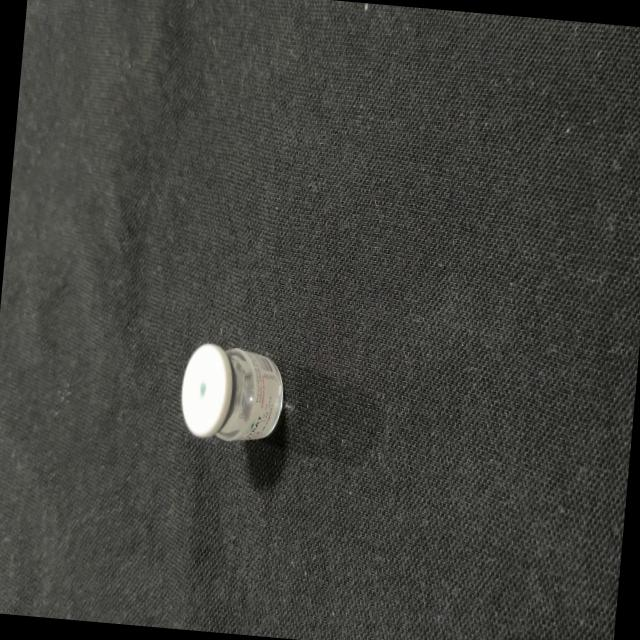fentanl_citrat: (178, 342, 286, 444)
